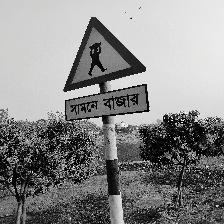Market-in-front: (62, 16, 150, 122)
